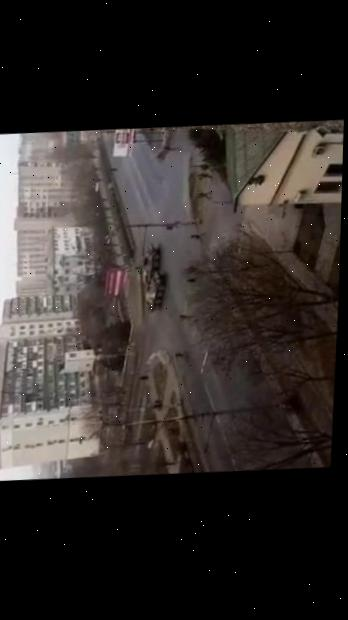person: (182, 262, 202, 273), (188, 229, 206, 241), (194, 188, 212, 199), (181, 275, 203, 284), (148, 402, 165, 410), (174, 349, 189, 358), (194, 170, 211, 177), (197, 162, 210, 170), (136, 374, 151, 380), (152, 396, 166, 402)
tank: (140, 242, 161, 285), (144, 271, 165, 312)
